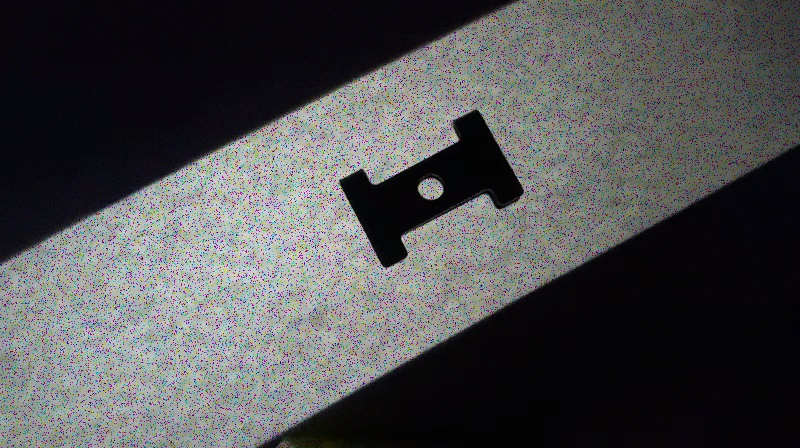O002: (336, 106, 523, 269)
